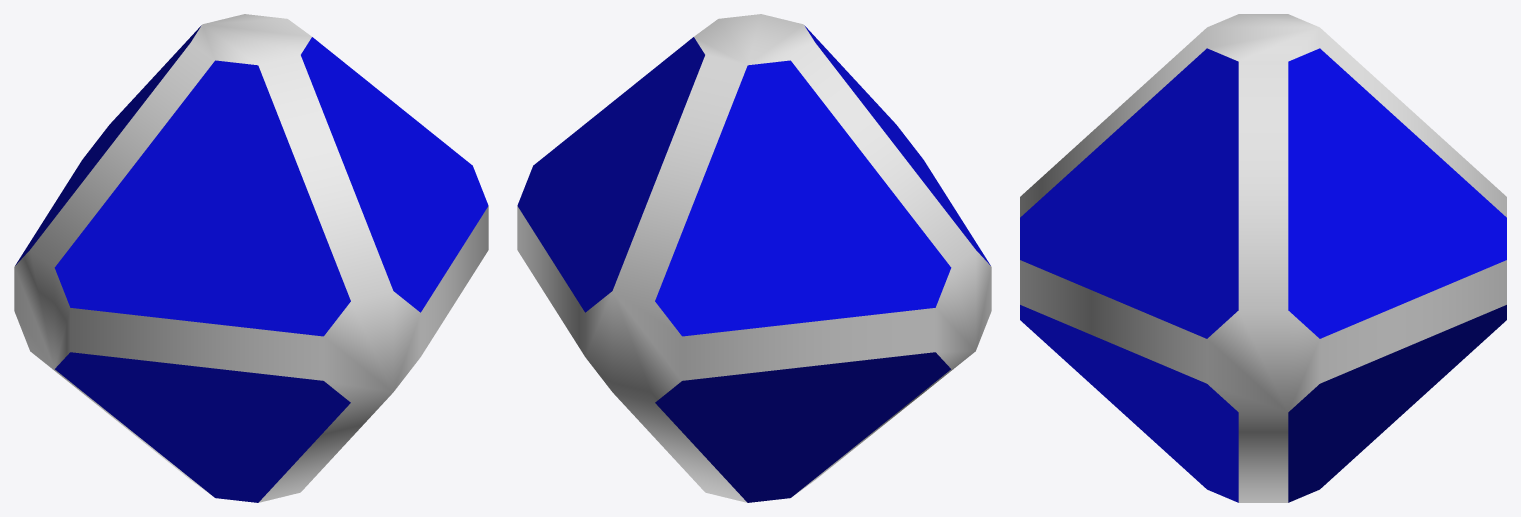
Rendered from D8_Beveled.fbx.
3 views of the same model, side by side, from view 1: azimuth 30°, elevation 25°; view 2: azimuth 150°, elevation 25°; view 3: azimuth 270°, elevation 25° (orthographic).
Parts seen in each view (by area): view 1: D8_Beveled; view 2: D8_Beveled; view 3: D8_Beveled.
Part boxes in pixels (<box>): D8_Beveled: <box>14,14,488,502</box>; D8_Beveled: <box>517,14,991,502</box>; D8_Beveled: <box>1020,14,1506,502</box>.
Bounding box in the file's own units: 113 × 113 × 113.
